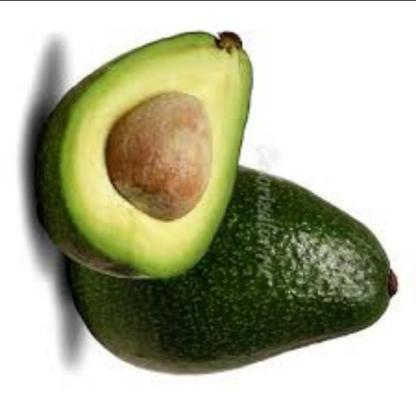avocado: (59, 179, 412, 393), (28, 24, 262, 291)
